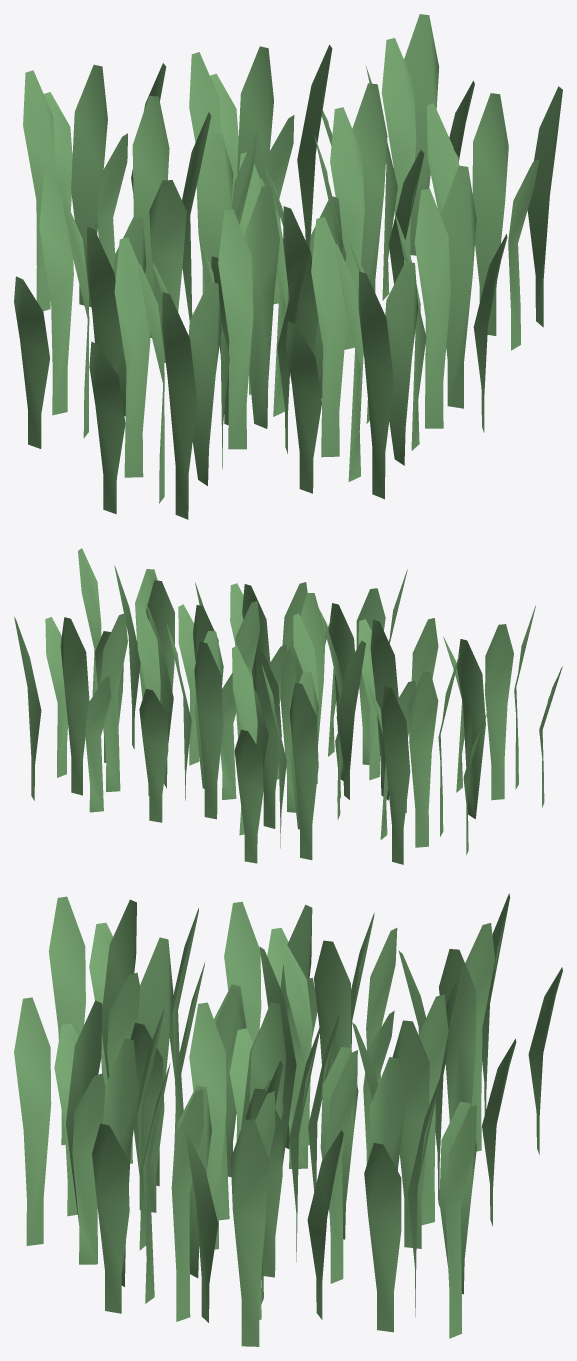
File: Grass.fbx
3 views of the same model, one above another, from view 1: azimuth 30°, elevation 25°; view 2: azimuth 150°, elevation 25°; view 3: azimuth 270°, elevation 25° (orthographic). The views are drawn at different scales.
Visible parts, largest first — view 1: Grass; view 2: Grass; view 3: Grass.
Part boxes in pixels (x1=…): Grass: x1=14, y1=14, x2=562, y2=519; Grass: x1=14, y1=548, x2=562, y2=864; Grass: x1=14, y1=893, x2=562, y2=1346.
Size of the model in its own units: 110 by 55.62 by 95.02.
